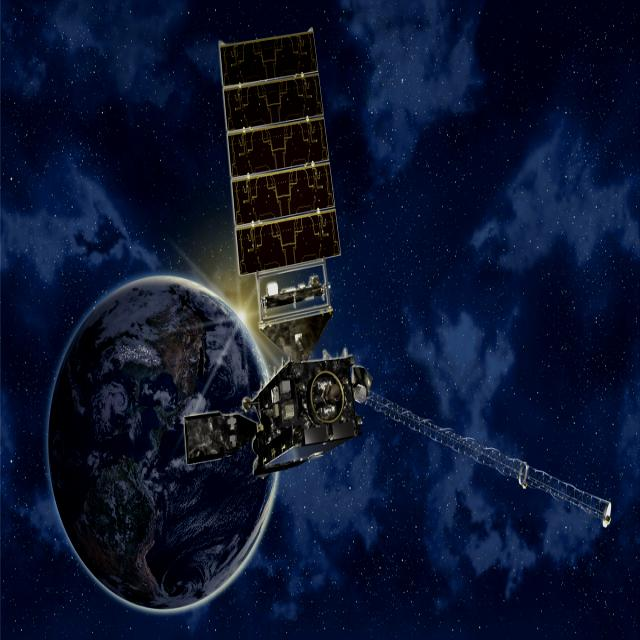medium_debris: (170, 24, 618, 534)
